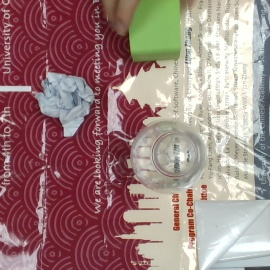bottle: (130, 121, 206, 193)
